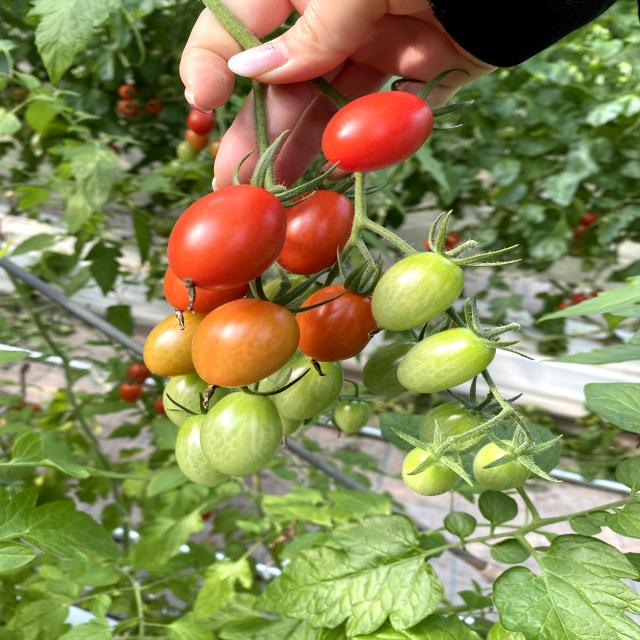ripe0: (371, 250, 463, 331), (200, 390, 284, 476), (397, 326, 497, 394), (402, 443, 462, 496), (473, 439, 532, 492)
ripe2: (166, 184, 287, 290), (192, 297, 299, 389), (320, 91, 435, 173), (298, 283, 375, 362), (284, 189, 352, 275)
